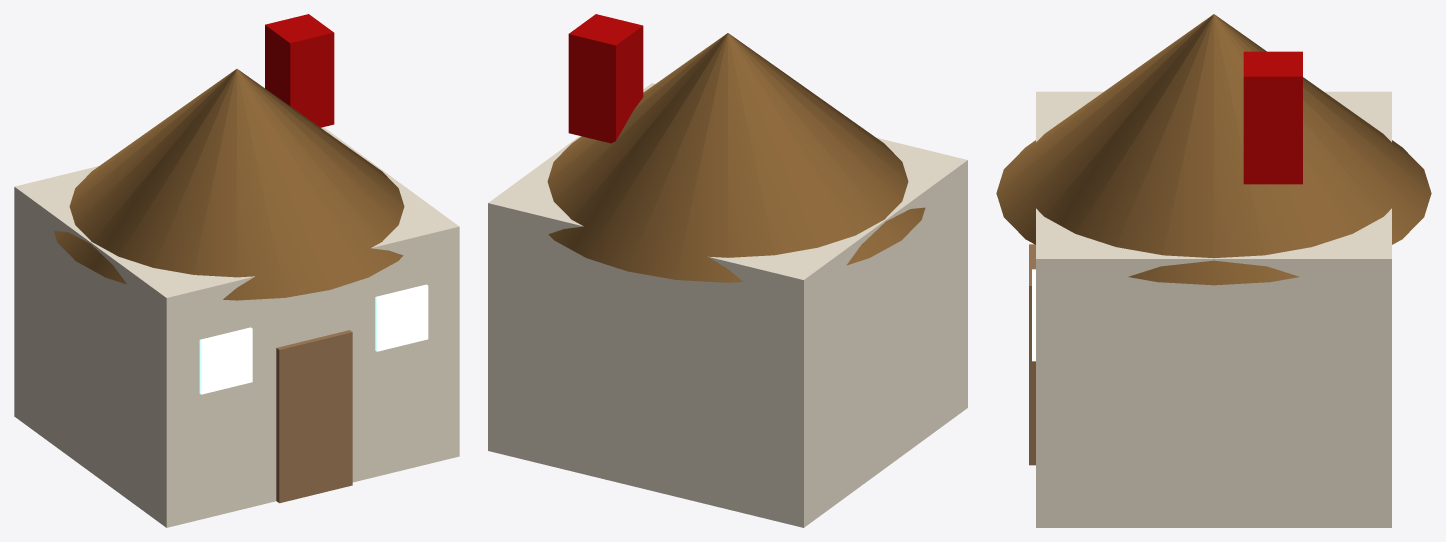
File: house.glb
3 renders of one model, left to right at view 1: azimuth 30°, elevation 25°; view 2: azimuth 150°, elevation 25°; view 3: azimuth 270°, elevation 25°, orthographic. The views are drawn at different scales.
Parts seen in each view (by area): view 1: walls, roof, door, chimney, window_left, window_right; view 2: walls, roof, chimney; view 3: walls, roof, chimney, door.
Part boxes in pixels (<box>): walls: <box>14,127,459,527</box>; roof: <box>54,69,404,300</box>; door: <box>276,330,352,503</box>; chimney: <box>265,14,334,127</box>; window_left: <box>199,327,252,394</box>; window_right: <box>375,284,428,351</box>; walls: <box>488,83,967,527</box>; roof: <box>547,33,925,282</box>; chimney: <box>568,14,643,143</box>; walls: <box>1036,91,1391,527</box>; roof: <box>996,14,1431,285</box>; chimney: <box>1243,51,1302,184</box>; door: <box>1029,244,1035,465</box>.
Bounding box in the file's own units: 2.2 × 2.4 × 2.2.
